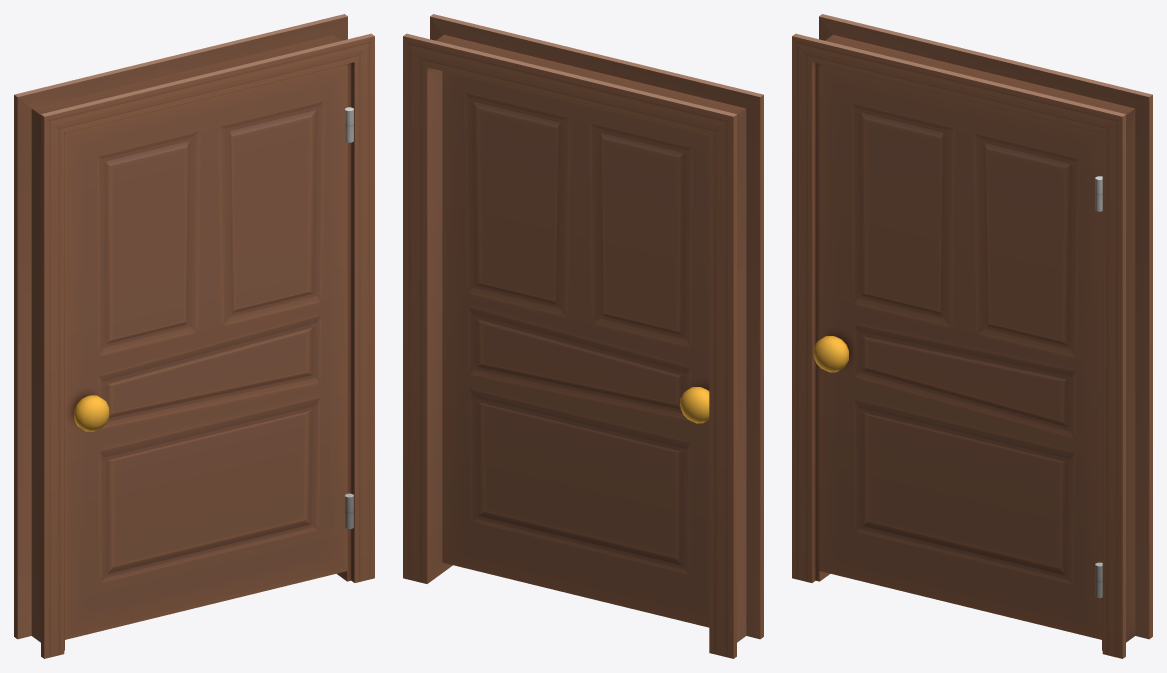
Rendered from PropDoor04TypeA.FBX.
3 renders of one model, left to right at view 1: azimuth 30°, elevation 25°; view 2: azimuth 150°, elevation 25°; view 3: azimuth 330°, elevation 25°, orthographic.
Visible parts, largest first — view 1: Door, Frame; view 2: Door, Frame; view 3: Door, Frame.
Boxes of the visible parts, x1,y1,x2,y2 form: Door: [65, 65, 353, 639]; Frame: [14, 14, 374, 658]; Door: [442, 71, 709, 627]; Frame: [403, 14, 763, 658]; Door: [814, 65, 1102, 639]; Frame: [792, 14, 1152, 658].
Size of what is drawn, in the model's own units: 1.64 by 2.57 by 0.3577.
